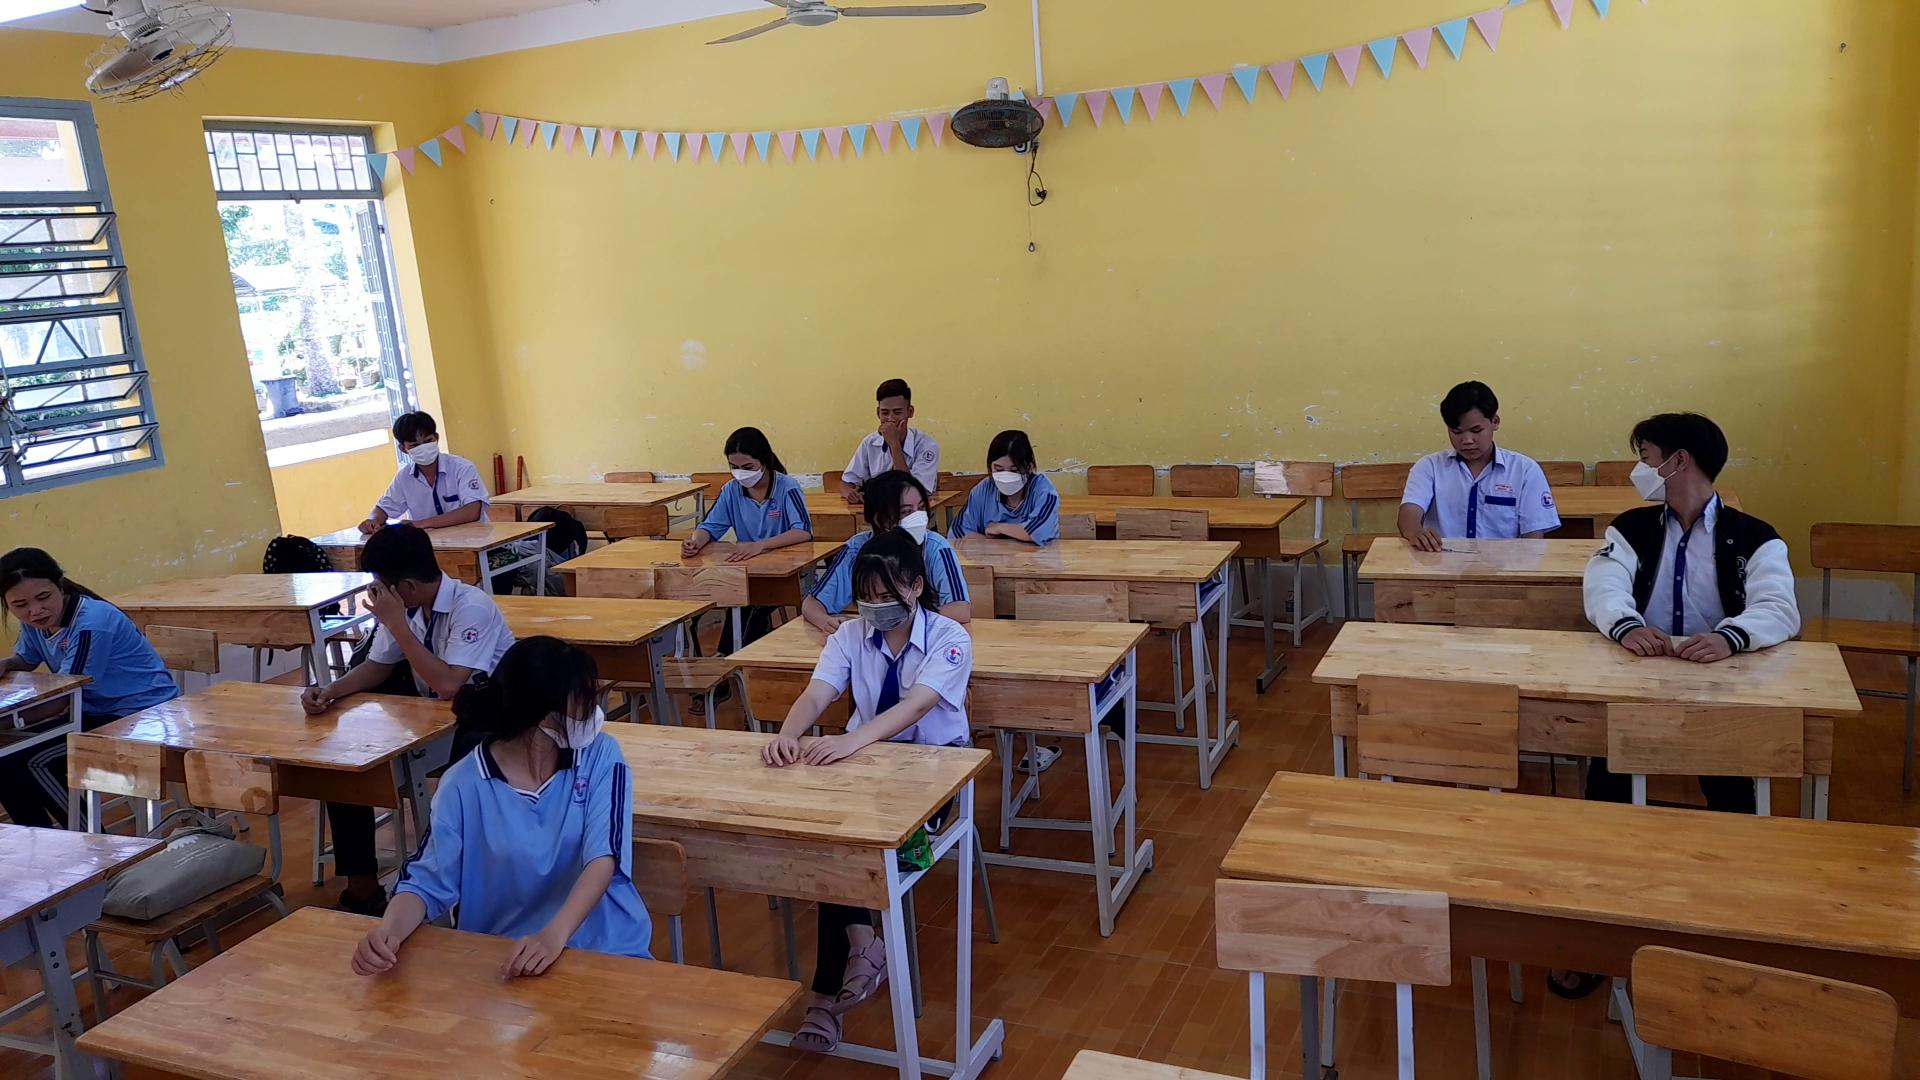Bend Over The Desk: (1425, 369, 1514, 460)
Hand Under Table: (1509, 458, 1561, 546)
Look Around: (442, 632, 611, 767), (1611, 404, 1746, 524)
Normal: (749, 521, 978, 775), (669, 405, 808, 560), (357, 384, 484, 531)
Wave: (348, 580, 477, 705)
